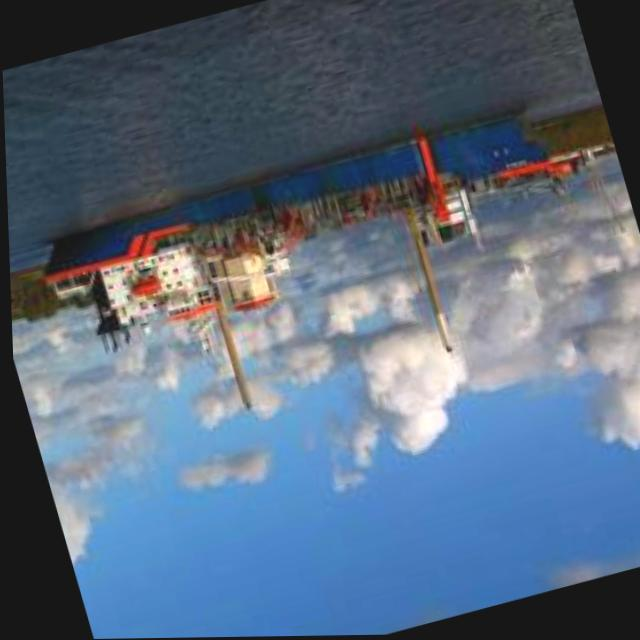ship2: (40, 118, 573, 411)
